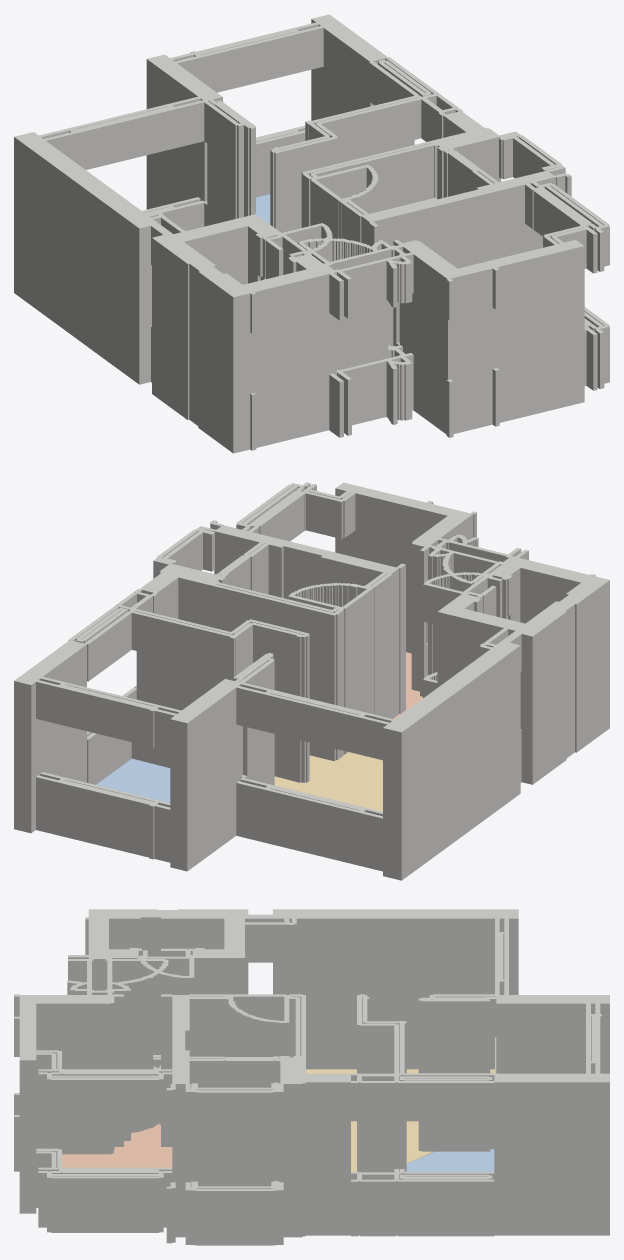
The picture shows the model from 3 angles, top to bottom: view 1: azimuth 30°, elevation 25°; view 2: azimuth 150°, elevation 25°; view 3: azimuth 270°, elevation 25°; orthographic projection. The views are drawn at different scales.
Visible parts, largest first — view 1: walls; view 2: walls, room:living:0, room:bedroom:5; view 3: walls, room:kitchen:3, room:bedroom:5, room:living:0.
Boxes of the visible parts, <box> form: walls: <box>14,14,609,453</box>; walls: <box>14,482,609,880</box>; room:living:0: <box>274,752,382,811</box>; room:bedroom:5: <box>96,758,170,802</box>; walls: <box>14,909,609,1245</box>; room:kitchen:3: <box>62,1123,172,1168</box>; room:bedroom:5: <box>406,1149,494,1171</box>; room:living:0: <box>306,1069,494,1171</box>.
Size of the model in its own units: 7.18 by 2.8 by 9.88.
